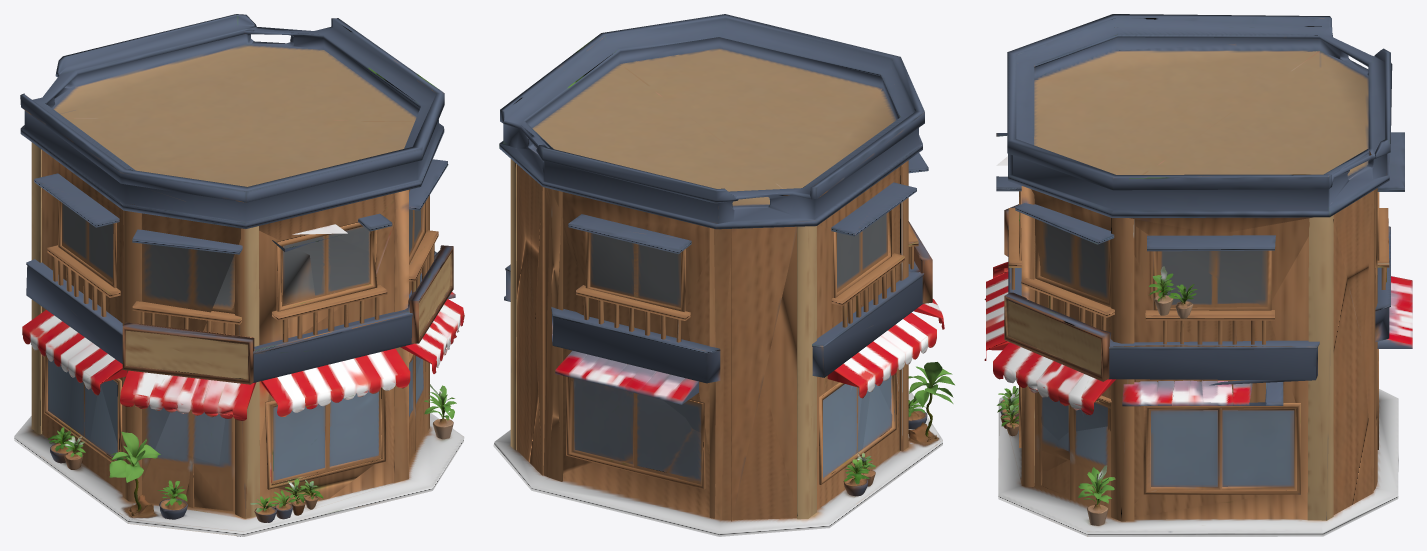
The model's file is card_shop.glb.
3 renders of one model, left to right at view 1: azimuth 30°, elevation 25°; view 2: azimuth 150°, elevation 25°; view 3: azimuth 270°, elevation 25°, orthographic. The views are drawn at different scales.
Parts seen in each view (by area): view 1: geometry_0; view 2: geometry_0; view 3: geometry_0.
Boxes of the visible parts, <box> form: geometry_0: <box>14,14,464,536</box>; geometry_0: <box>493,14,954,536</box>; geometry_0: <box>984,14,1412,536</box>.
Size of the model in its own units: 0.9258 by 0.8394 by 0.917.
Materials: 1 (1 with a texture image).
